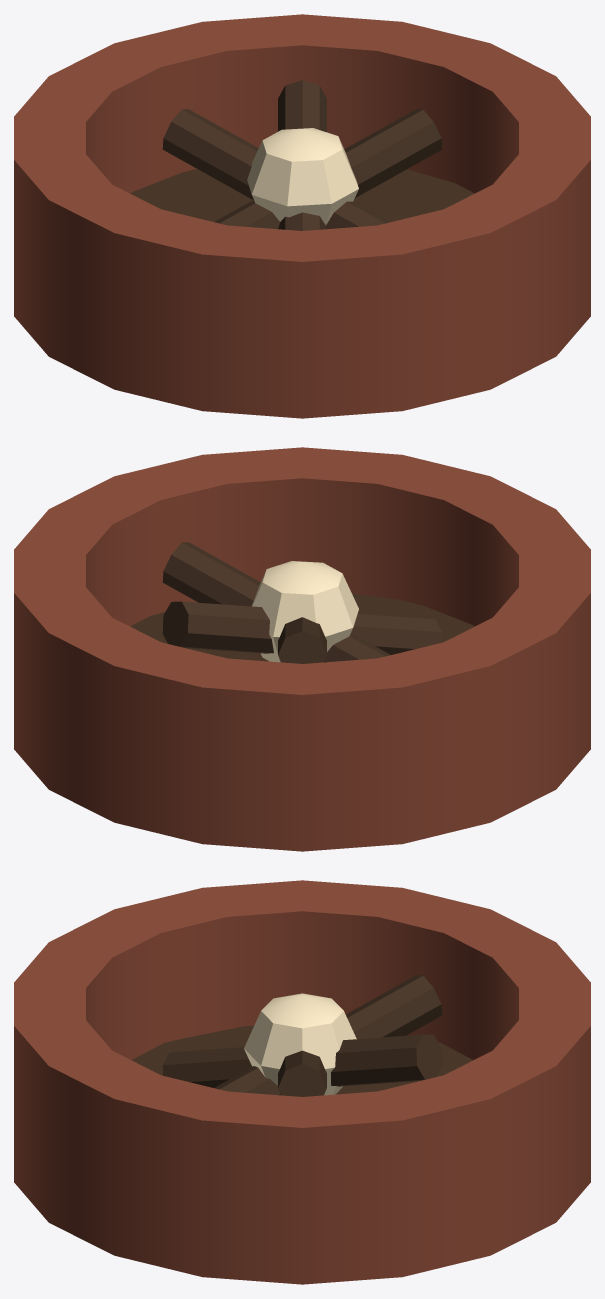
File: home.lodge.fire_pit.glb
The picture shows the model from 3 angles, top to bottom: view 1: azimuth 30°, elevation 25°; view 2: azimuth 150°, elevation 25°; view 3: azimuth 270°, elevation 25°; orthographic projection.
Parts seen in each view (by area): view 1: main__brick, main__bark, main__glow, main__soil; view 2: main__brick, main__bark, main__glow, main__soil; view 3: main__brick, main__bark, main__glow, main__soil.
Part boxes in pixels (x1=…): main__brick: x1=14, y1=14, x2=590, y2=418; main__bark: x1=162, y1=80, x2=442, y2=230; main__glow: x1=247, y1=128, x2=358, y2=225; main__soil: x1=130, y1=169, x2=474, y2=221; main__brick: x1=14, y1=447, x2=590, y2=851; main__bark: x1=162, y1=542, x2=442, y2=663; main__glow: x1=251, y1=561, x2=358, y2=662; main__soil: x1=130, y1=593, x2=474, y2=661; main__brick: x1=14, y1=880, x2=590, y2=1284; main__bark: x1=162, y1=975, x2=442, y2=1096; main__glow: x1=244, y1=993, x2=356, y2=1095; main__soil: x1=132, y1=1025, x2=472, y2=1094.
Bounding box in the file's own units: 1.2 × 0.374 × 1.18.
